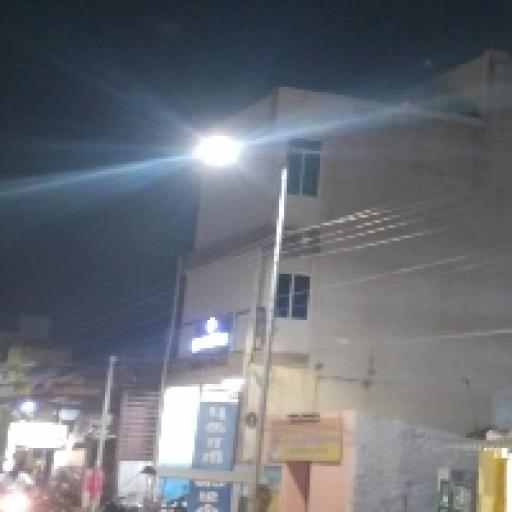Working: (183, 124, 251, 186)
